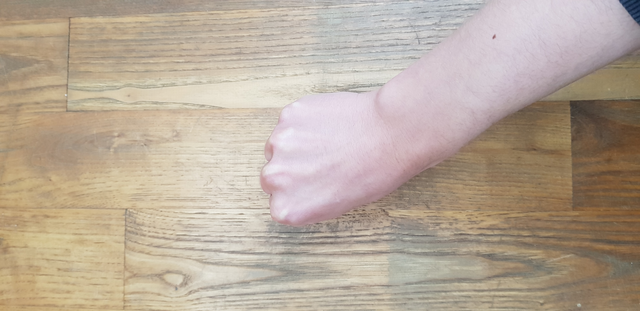Rock: (234, 85, 415, 233)
